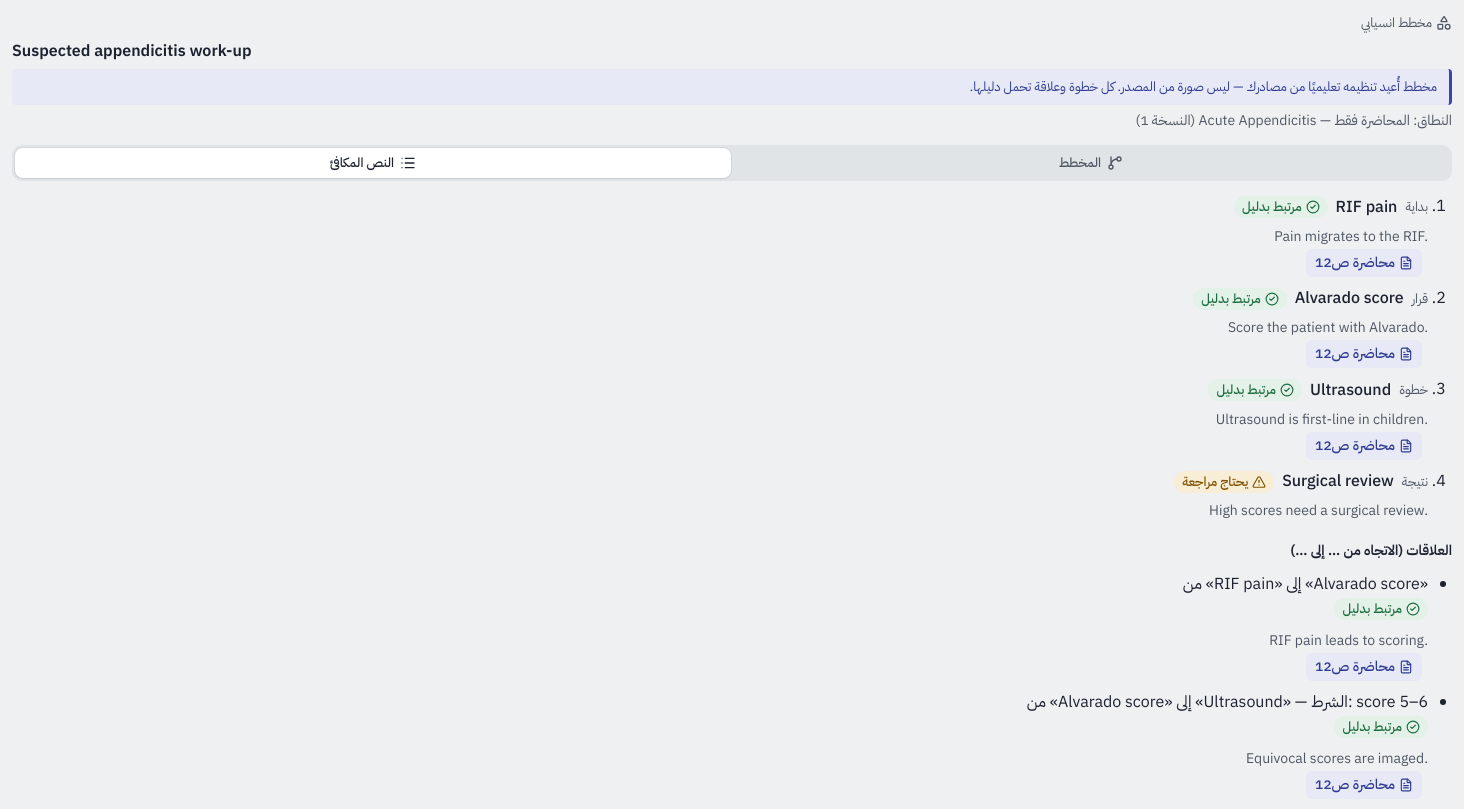
Scenario: StudyDiagram › the text twin carries the same steps (in order), relations in words, statements and chips
The image size is (1464, 809).
// switching back to the map keeps the same diagram
What coordinates should you click on to do the following:
click the radio button labelled "المخطط"
I would click on:
 (1091, 163)
Its box is [733, 148, 1449, 178].
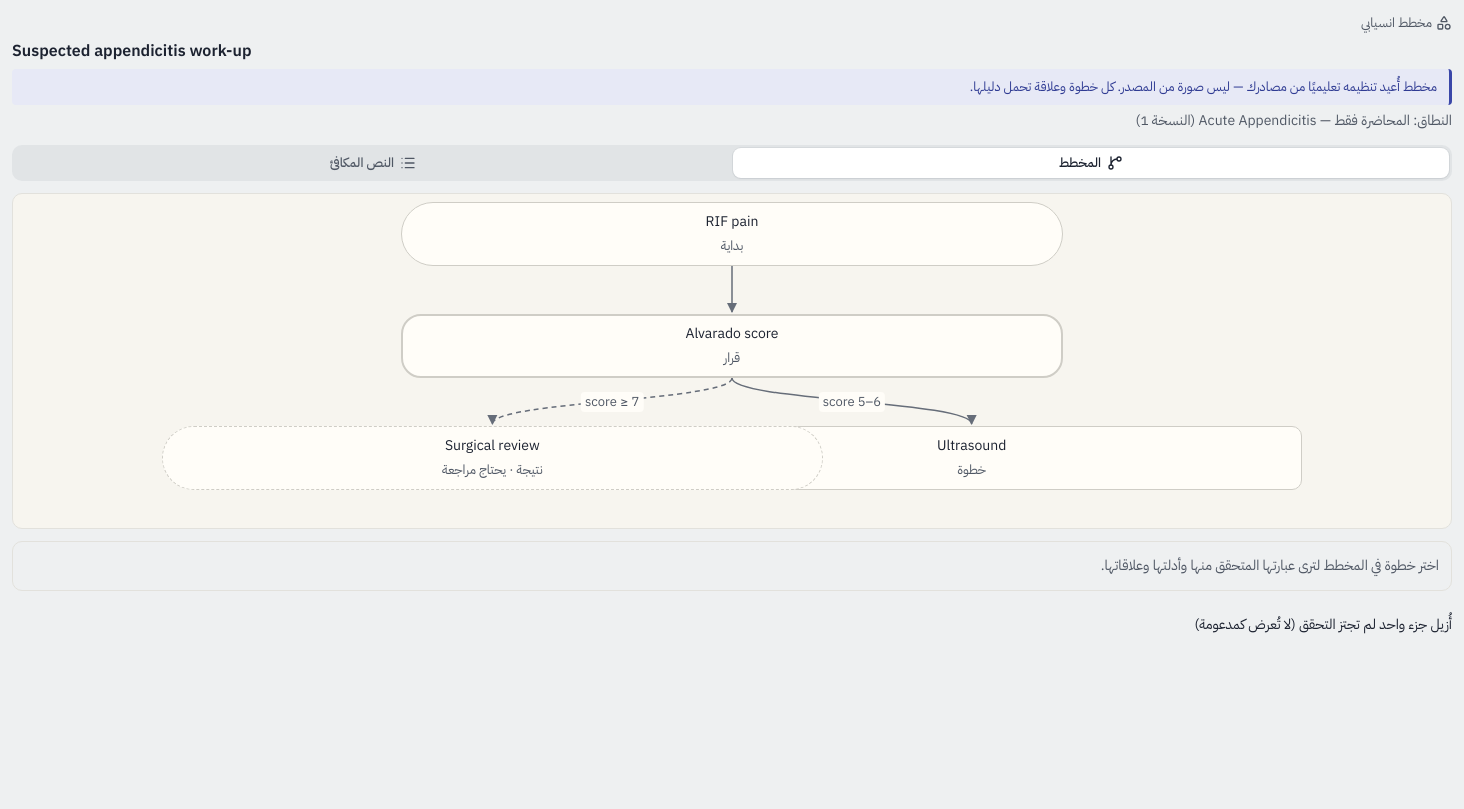
Now the button with aria-label "بداية: RIF pain" is shown, box [401, 202, 1063, 266]
